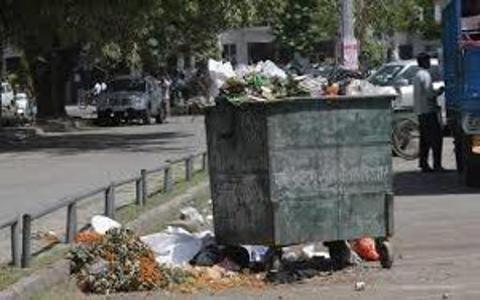overflowing garbage: (71, 58, 409, 284)
